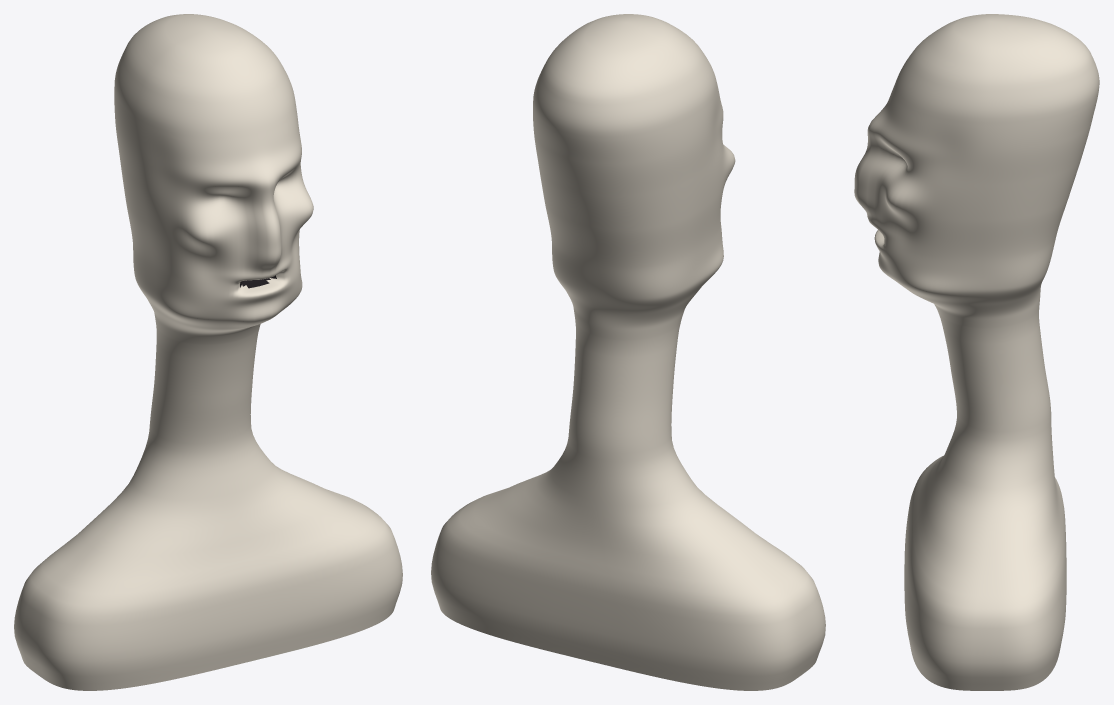
The model's file is th-bust.glb.
3 renders of one model, left to right at view 1: azimuth 30°, elevation 25°; view 2: azimuth 150°, elevation 25°; view 3: azimuth 270°, elevation 25°, orthographic. The views are drawn at different scales.
Parts seen in each view (by area): view 1: talking_head_bust; view 2: talking_head_bust; view 3: talking_head_bust.
Boxes of the visible parts, box(x1,y1,x2,y2) form: talking_head_bust: box(14, 14, 402, 690); talking_head_bust: box(431, 14, 825, 690); talking_head_bust: box(854, 14, 1099, 690).
Size of the model in its own units: 0.368 by 0.592 by 0.2237.
